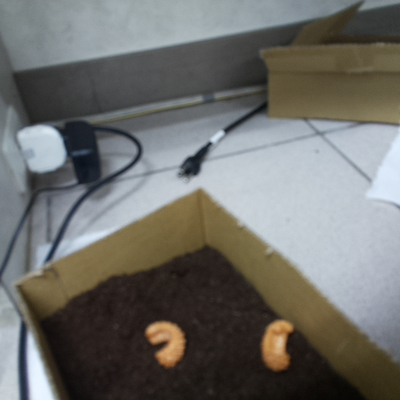eggs: (140, 318, 190, 371), (258, 312, 297, 378)
